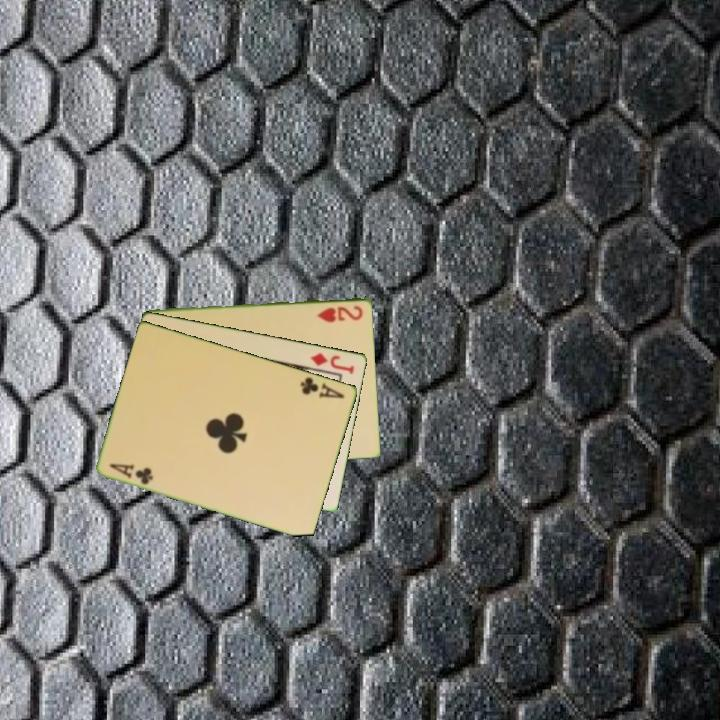2h: (313, 302, 366, 324)
Ac: (297, 373, 348, 401), (106, 460, 156, 487)
Jd: (307, 349, 357, 377)
